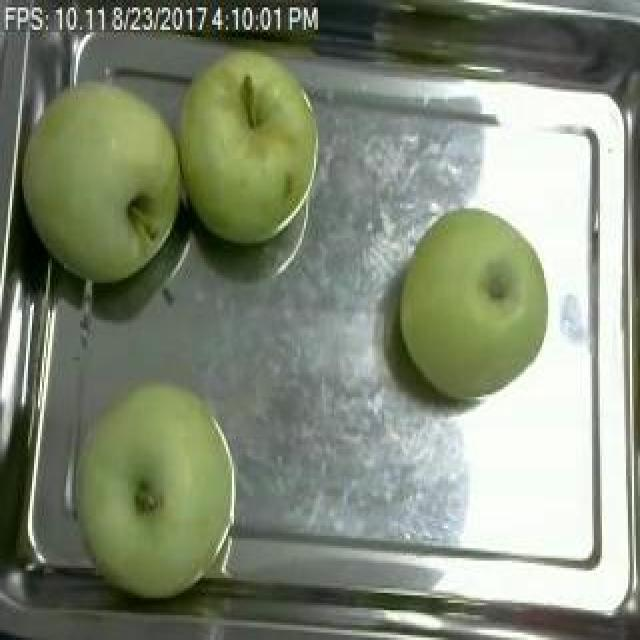Rotten Apple: (16, 72, 190, 288), (75, 381, 239, 604), (405, 203, 555, 412), (183, 38, 321, 247)
